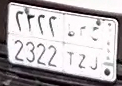2: (35, 14, 47, 65), (14, 10, 25, 62), (47, 15, 58, 67)
3: (25, 13, 36, 63)
J: (89, 25, 101, 71)
T: (66, 23, 76, 66)
Z: (76, 25, 88, 68)
